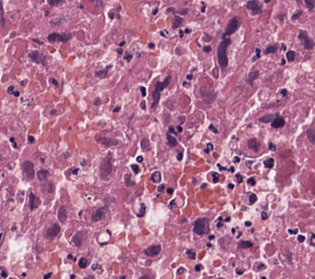nucleus: (217, 39, 230, 70), (298, 31, 313, 49), (193, 218, 208, 235), (100, 155, 111, 178), (155, 75, 170, 91), (29, 51, 46, 65), (47, 32, 71, 41), (92, 206, 106, 221), (96, 137, 118, 146), (95, 65, 111, 77), (201, 90, 215, 103), (29, 193, 40, 209), (144, 245, 160, 256), (46, 224, 59, 237), (57, 206, 66, 223), (151, 89, 159, 108), (247, 71, 258, 84), (271, 116, 284, 127), (248, 138, 259, 151), (72, 232, 81, 246), (37, 169, 48, 180), (306, 128, 314, 143), (167, 133, 176, 146), (259, 114, 273, 122), (238, 240, 252, 248), (141, 138, 150, 150), (125, 174, 134, 186), (286, 50, 295, 61), (151, 171, 160, 182), (264, 45, 276, 53), (137, 203, 144, 216), (264, 158, 273, 167), (186, 249, 195, 258), (205, 143, 213, 152), (131, 164, 139, 173), (79, 258, 87, 267), (249, 193, 256, 203), (203, 33, 211, 41), (209, 124, 217, 132), (247, 177, 255, 185), (212, 172, 218, 182), (255, 263, 265, 269), (235, 174, 242, 182), (140, 86, 145, 96), (124, 54, 131, 61), (50, 78, 57, 85), (169, 126, 176, 133), (235, 268, 243, 274), (140, 100, 145, 109), (252, 54, 259, 60), (94, 98, 100, 105), (113, 106, 120, 112), (269, 143, 275, 150), (158, 184, 164, 191), (261, 212, 267, 219), (177, 267, 184, 273), (33, 39, 41, 44), (177, 152, 182, 160), (217, 164, 225, 169), (288, 229, 297, 233), (311, 233, 314, 245), (298, 235, 304, 241), (195, 264, 201, 270), (203, 46, 210, 51), (281, 89, 286, 95), (234, 156, 239, 162), (167, 188, 172, 194), (245, 221, 251, 226), (68, 254, 74, 259), (177, 126, 182, 131), (137, 156, 142, 161), (229, 166, 234, 171), (72, 168, 77, 173), (228, 183, 233, 188), (148, 43, 154, 47), (180, 116, 184, 122), (44, 273, 50, 277), (141, 275, 149, 278), (256, 48, 260, 53), (117, 49, 122, 53), (187, 74, 191, 79), (51, 110, 56, 114), (217, 222, 221, 227), (231, 228, 235, 232), (209, 235, 213, 239), (179, 31, 182, 36), (119, 42, 124, 45), (281, 59, 284, 64), (183, 82, 188, 85), (70, 275, 75, 277)
